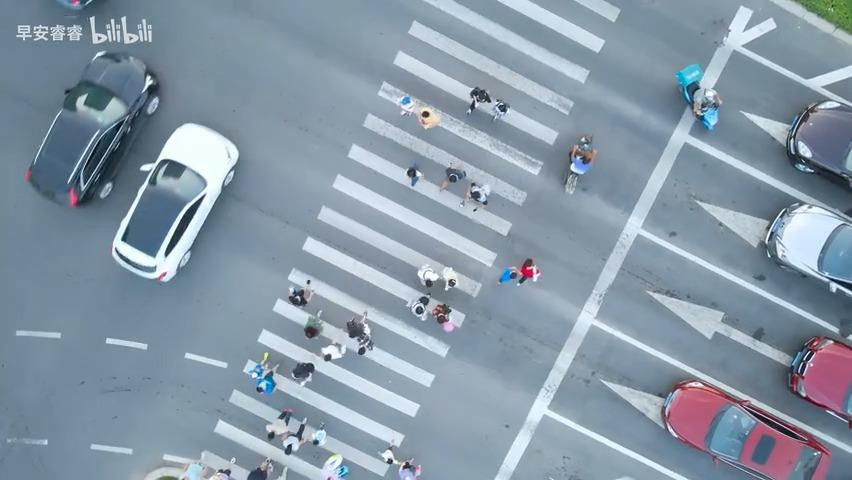Civilian: (497, 257, 541, 286), (250, 351, 279, 394), (346, 310, 374, 352), (569, 136, 597, 175), (691, 86, 722, 119), (458, 181, 490, 210), (265, 408, 292, 439), (439, 163, 466, 191), (288, 279, 314, 307), (416, 263, 438, 296), (466, 86, 491, 115), (321, 453, 348, 479), (280, 430, 307, 455), (310, 420, 327, 458), (409, 292, 431, 319), (246, 458, 274, 479), (303, 309, 323, 338), (291, 361, 314, 386), (320, 340, 346, 361), (398, 457, 421, 479), (178, 462, 207, 479), (491, 98, 510, 123), (497, 265, 519, 285), (418, 109, 438, 129), (378, 444, 398, 464), (432, 302, 451, 323), (442, 266, 458, 290), (470, 86, 491, 103), (405, 166, 422, 186), (399, 95, 414, 116), (277, 407, 292, 425), (208, 468, 231, 479)
